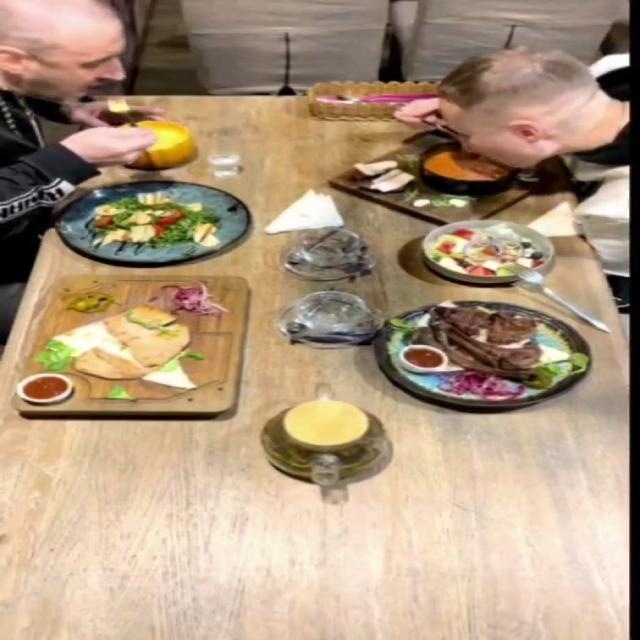meat: (12, 278, 248, 412), (371, 299, 591, 408)
salad: (53, 181, 249, 265), (421, 219, 556, 284)
soup: (329, 136, 570, 226), (115, 120, 198, 168)
tea: (257, 370, 401, 501)
